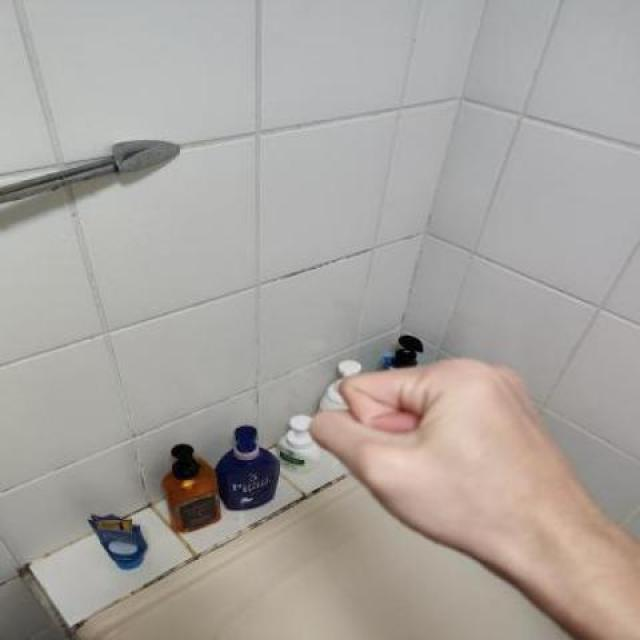fist: (310, 355, 634, 580)
